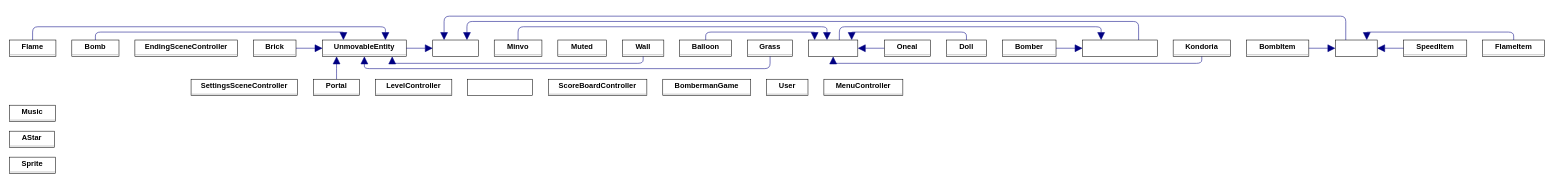
The diagram is 1554 pixels wide and 183 high, and some of its shapes have lost their labels. The shapes that lost their labels are listed below. From the top down, each one's centre as x and y in pixels, then its label:
At (x=455, y=47): "Entity".
At (x=833, y=47): "Enemy".
At (x=1119, y=47): "MovableEntity".
At (x=1356, y=47): "Item".
At (x=499, y=87): "SpriteSheet".
